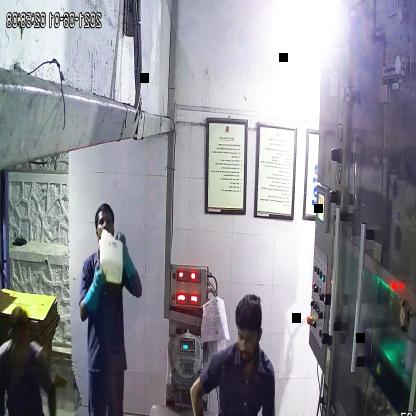no_goggles: (235, 327, 263, 348)
